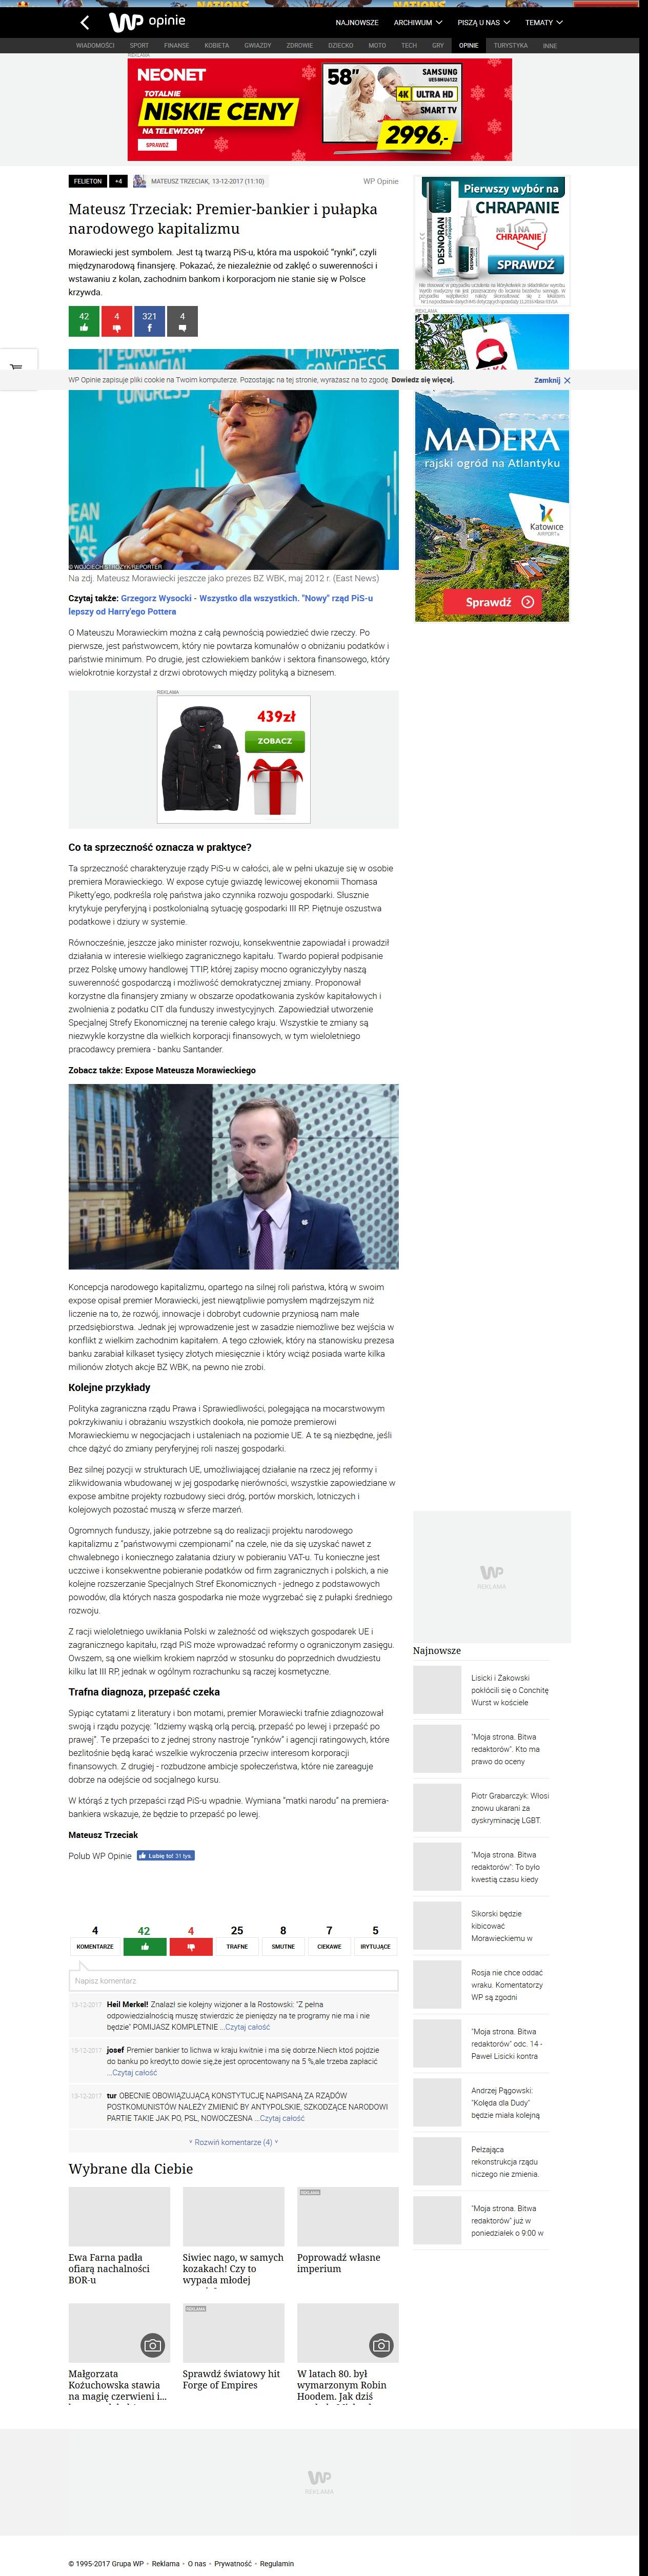title: (67, 202, 378, 238)
